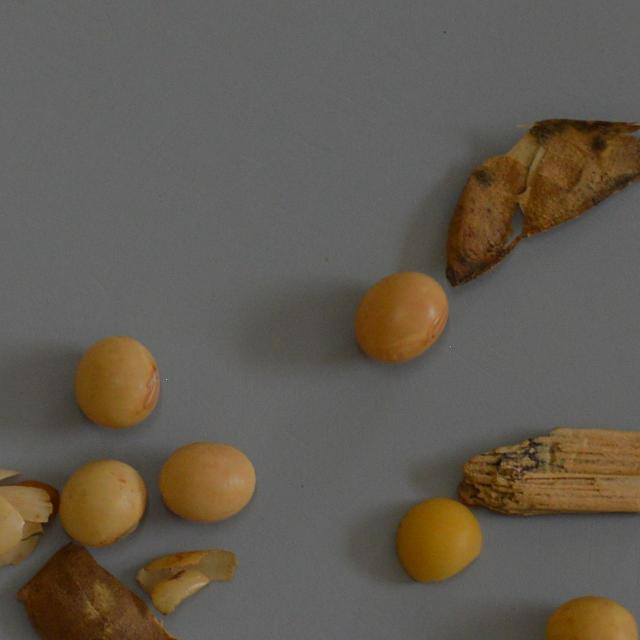cuerpos_extranos: (441, 108, 640, 290), (450, 416, 640, 522), (7, 534, 190, 640), (154, 435, 266, 528), (352, 264, 452, 368), (68, 329, 168, 432), (388, 494, 486, 590), (58, 456, 148, 554), (125, 546, 240, 612), (0, 465, 62, 573), (536, 587, 640, 640)
